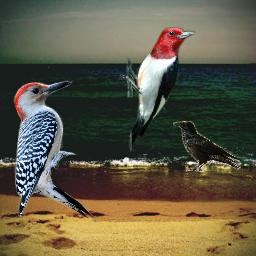Crow: (173, 121, 241, 171)
Woodpecker: (7, 75, 100, 229), (118, 27, 197, 152)
